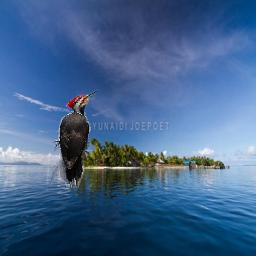Woodpecker: (50, 89, 101, 188)
